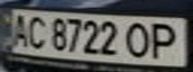2: (96, 18, 124, 57), (81, 16, 103, 55)
7: (63, 16, 84, 54)
8: (45, 15, 69, 52)
A: (3, 11, 33, 48)
C: (24, 12, 48, 51)
O: (124, 19, 154, 60)
P: (145, 19, 187, 61)
